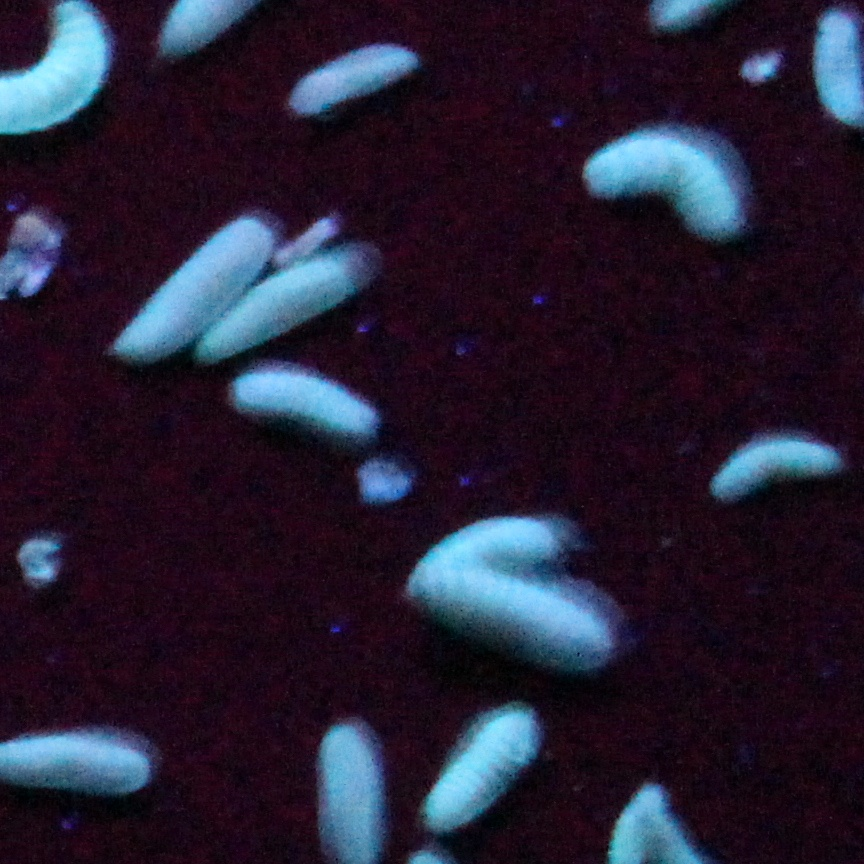larve: (120, 219, 273, 356), (425, 565, 604, 656), (199, 258, 351, 358), (584, 136, 734, 233), (425, 713, 534, 827), (407, 518, 555, 594), (236, 371, 377, 434), (291, 48, 412, 114), (713, 442, 838, 496)
